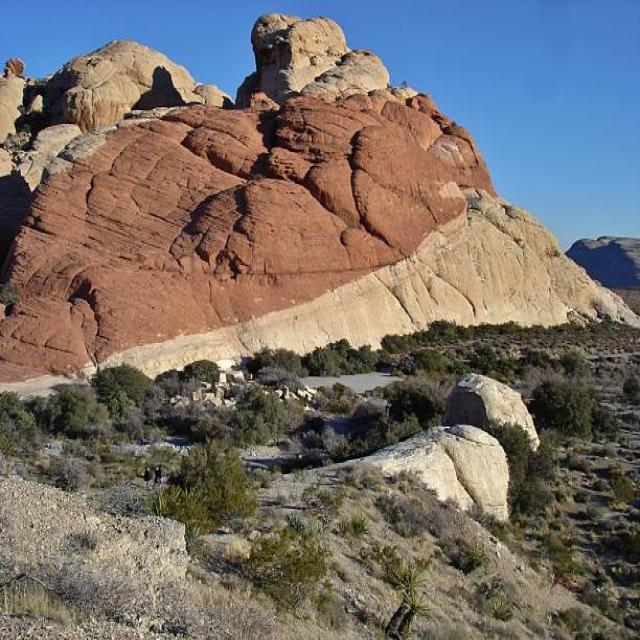Sedimentary: (1, 1, 639, 350)
